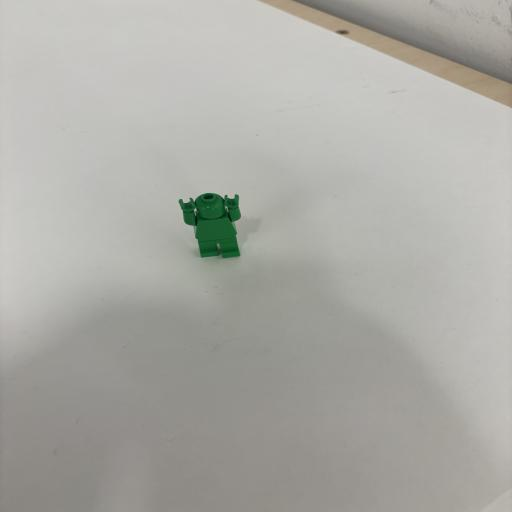green_lego_minifigure: (156, 168, 277, 284)
